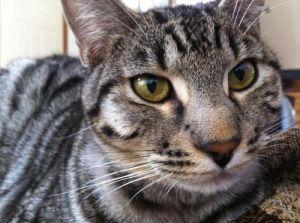bengal: (52, 1, 291, 199)
